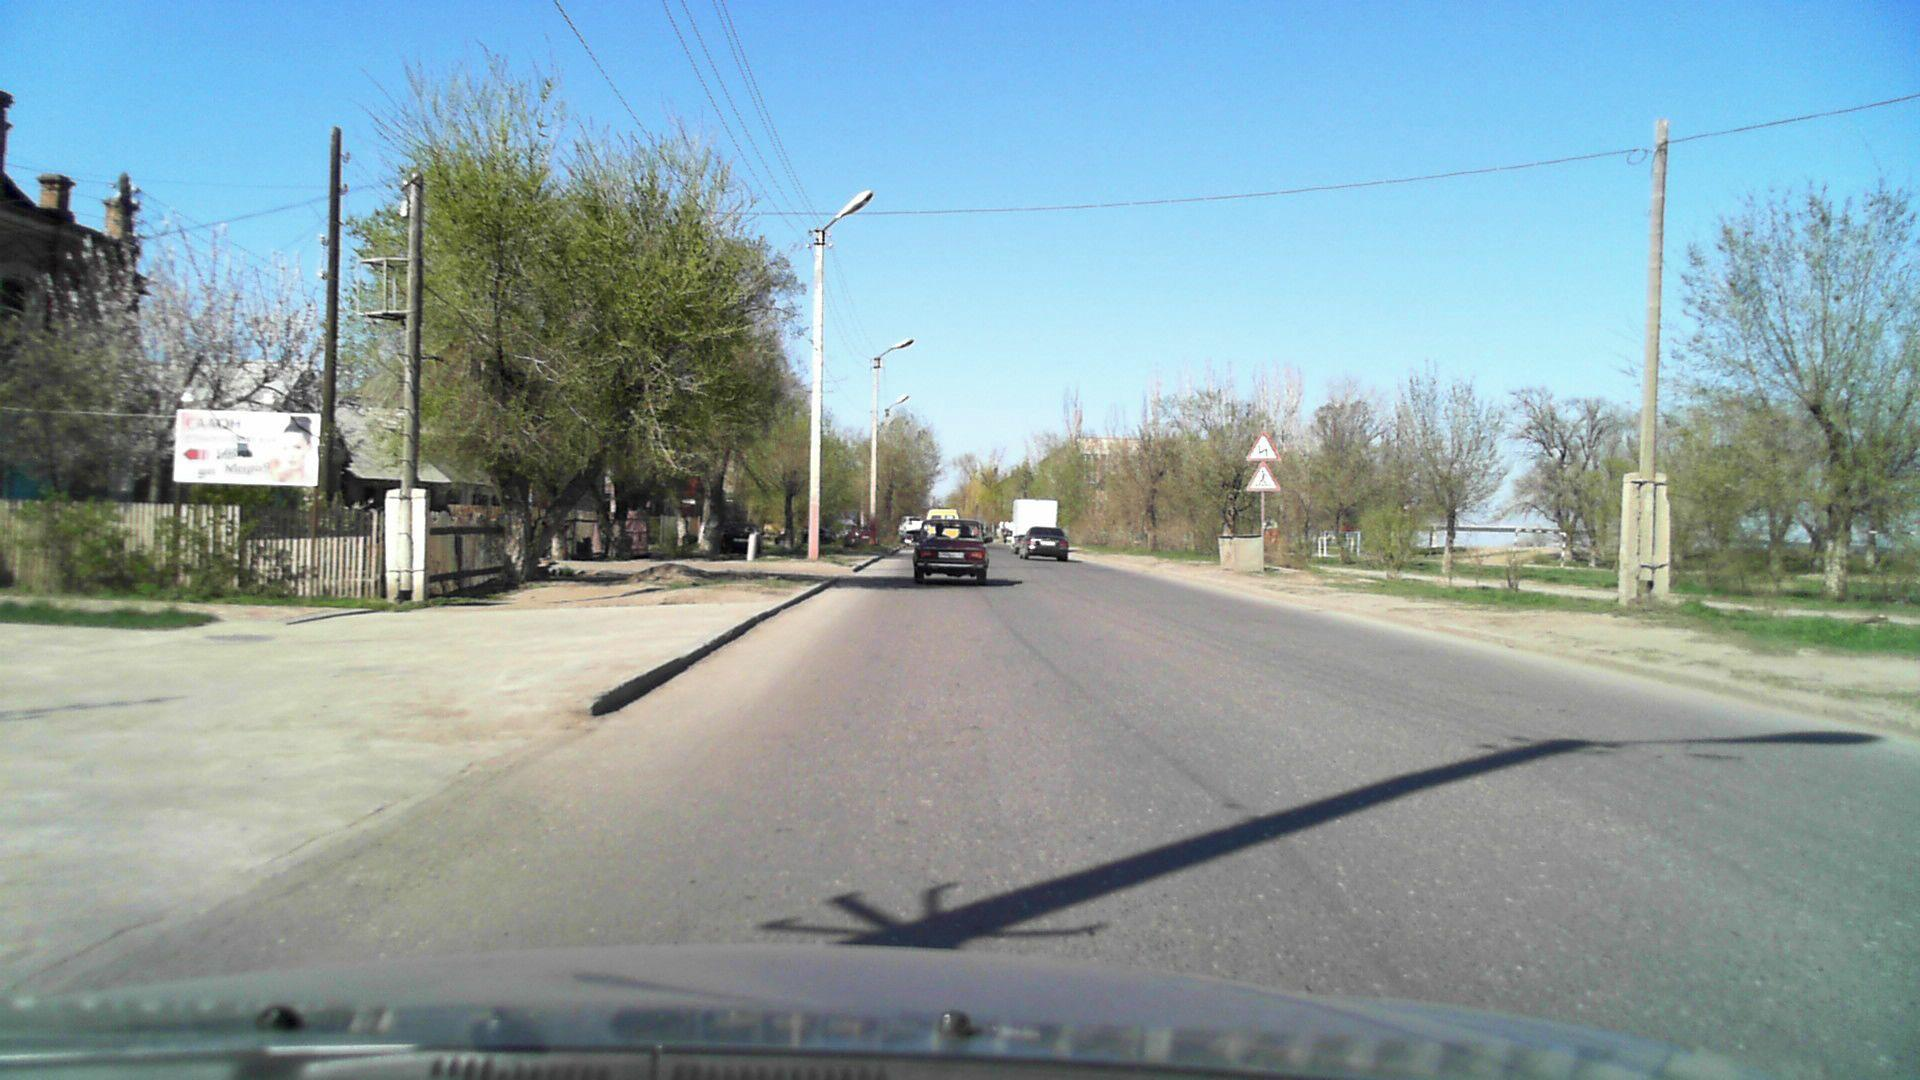1_12_2: (1241, 428, 1279, 460)
1_22: (1241, 463, 1283, 495)
